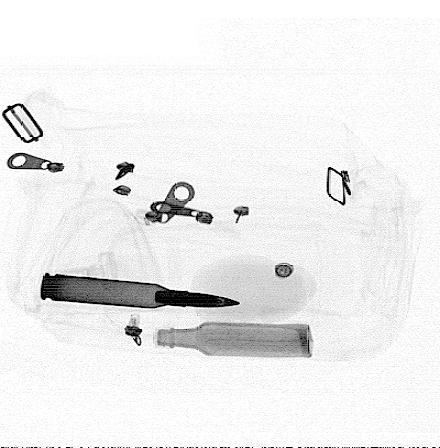Bullet: (40, 272, 246, 309)
